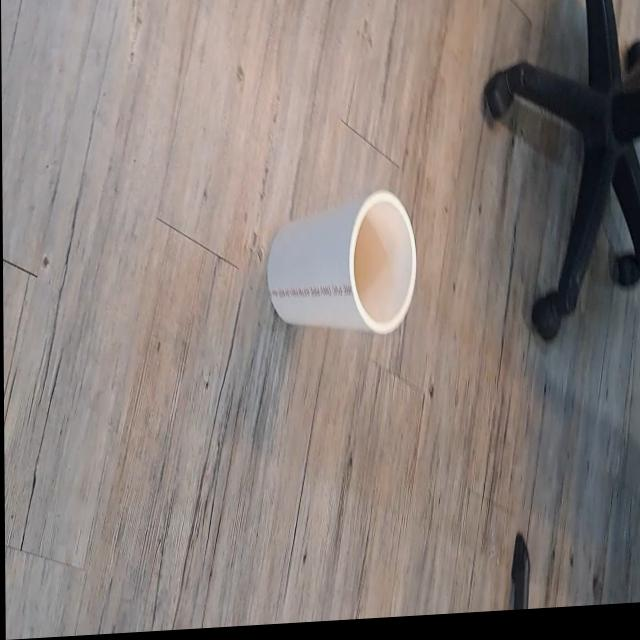CORAL: (258, 180, 417, 354)
